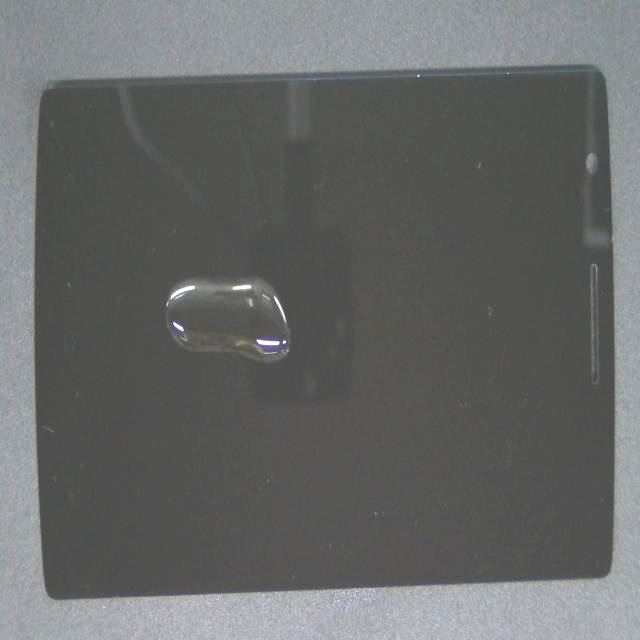oil: (173, 155, 400, 418)
